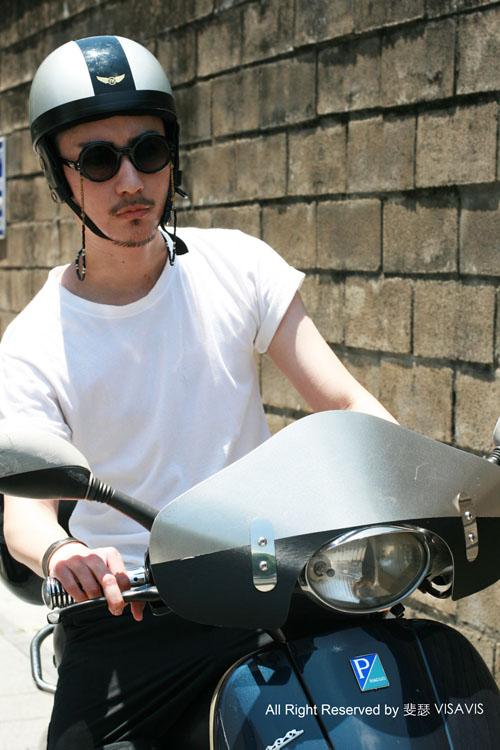helmet: (25, 35, 178, 114)
